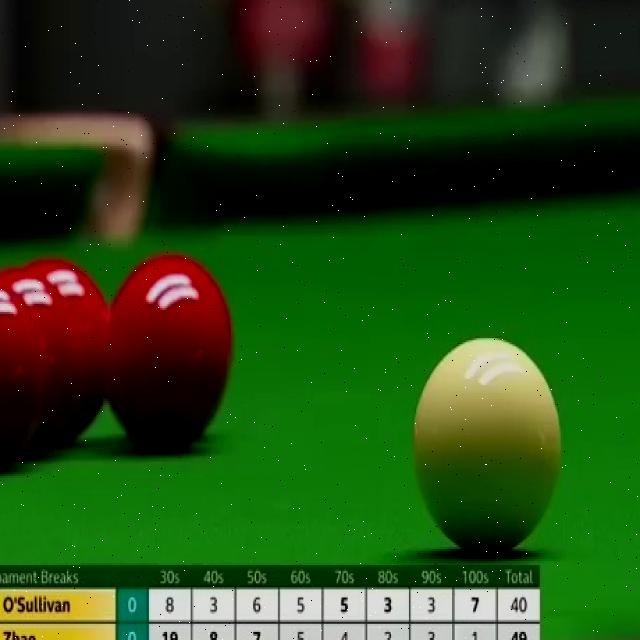red-ball: (106, 253, 233, 457), (24, 259, 108, 450), (0, 266, 79, 453), (0, 279, 42, 474)
white-ball: (412, 337, 559, 547)
